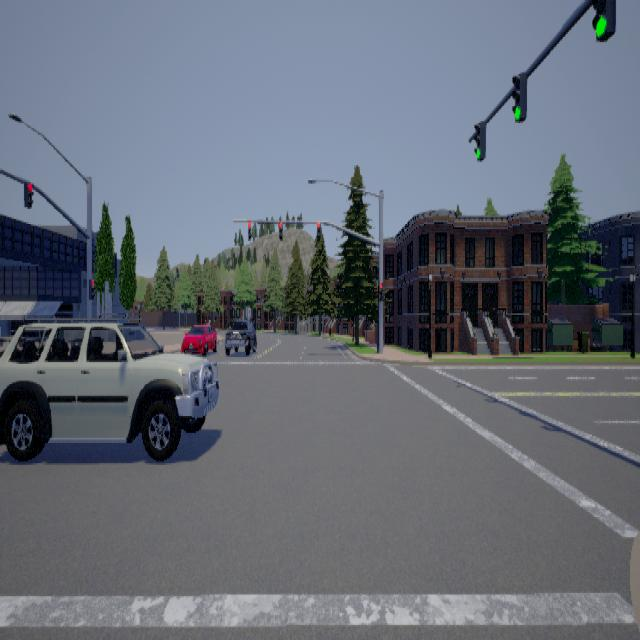green_light: (591, 0, 615, 40), (511, 71, 526, 121), (473, 120, 485, 160)
red_light: (23, 180, 33, 207), (88, 278, 94, 298), (316, 221, 321, 240), (278, 220, 282, 240), (378, 282, 382, 300), (248, 220, 250, 240)
vehicle: (0, 312, 218, 459), (181, 322, 217, 358), (223, 316, 256, 354)
